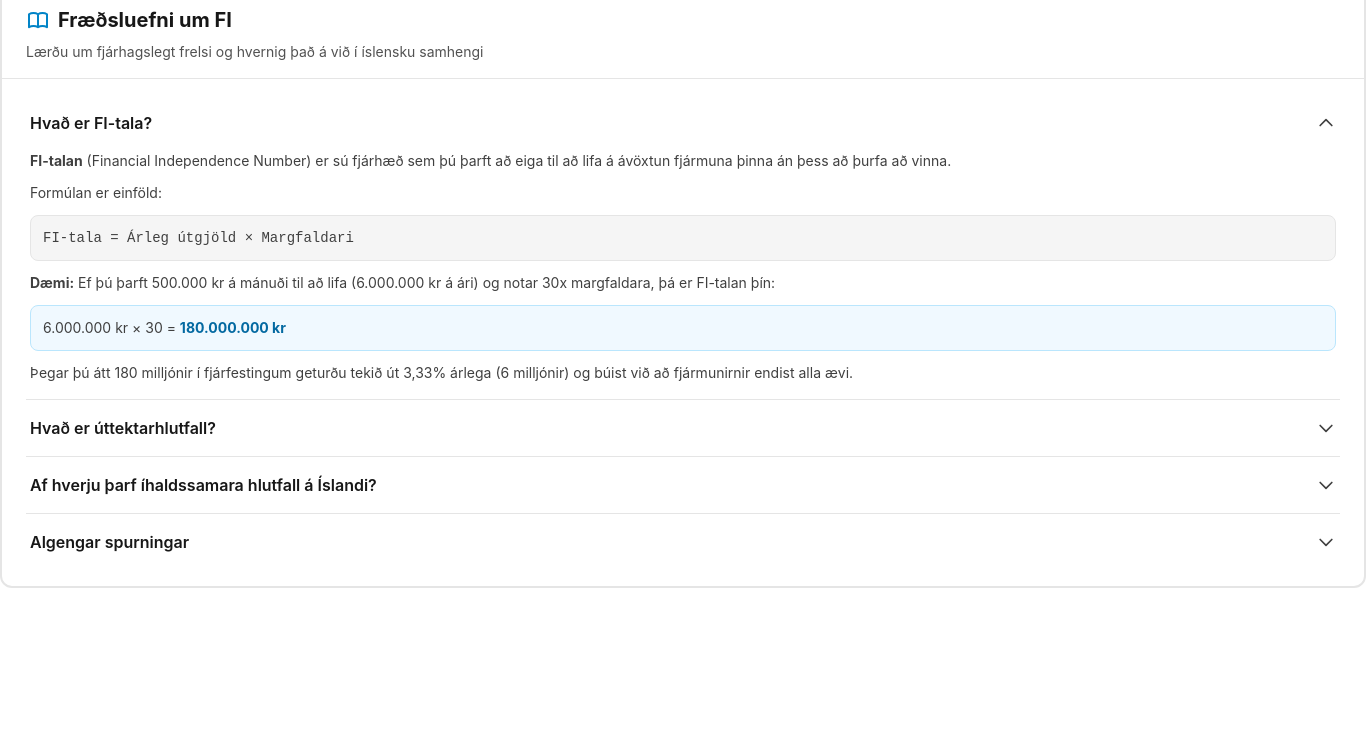
it: EducationalPanel › Content - Section 3: Icelandic Context › shows recommendation for 30x-33x multiplier
Click the button "Af hverju þarf íhaldssamara hlutfall á Íslandi?": (203, 485) top-left (26, 457), bottom-right (1340, 513)
(page scrolled)
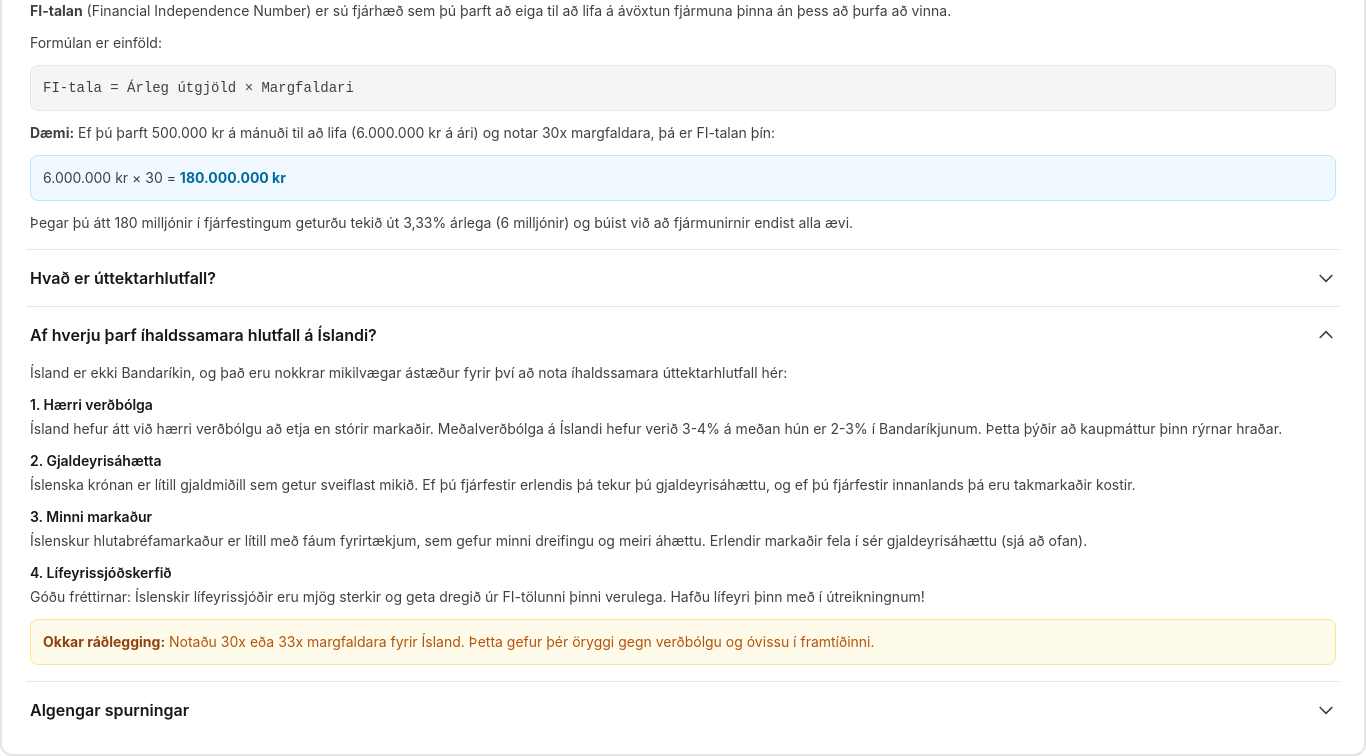
expect the text "Notaðu 30x eða 33x margfaldara" is shown: met, box top-left (165, 633), bottom-right (875, 650)
